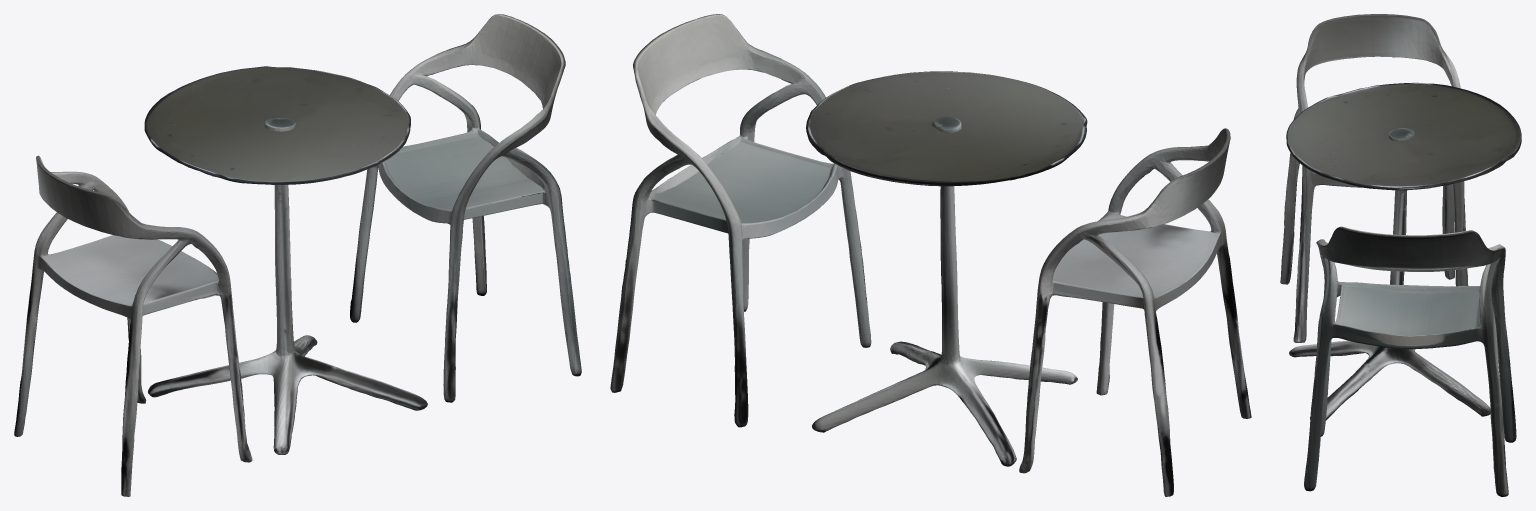
Rendered from real-7.glb.
3 views of the same model, side by side, from view 1: azimuth 30°, elevation 25°; view 2: azimuth 150°, elevation 25°; view 3: azimuth 270°, elevation 25° (orthographic). The views are drawn at different scales.
Visible parts, largest first — view 1: mesh_0; view 2: mesh_0; view 3: mesh_0.
Boxes of the visible parts, x1,y1,x2,y2 form: mesh_0: (14,14,581,496); mesh_0: (610,14,1251,496); mesh_0: (1280,14,1521,496).
Size of the model in its own units: 6.98 by 3.84 by 3.15.
Materials: 3 (3 with a texture image).
